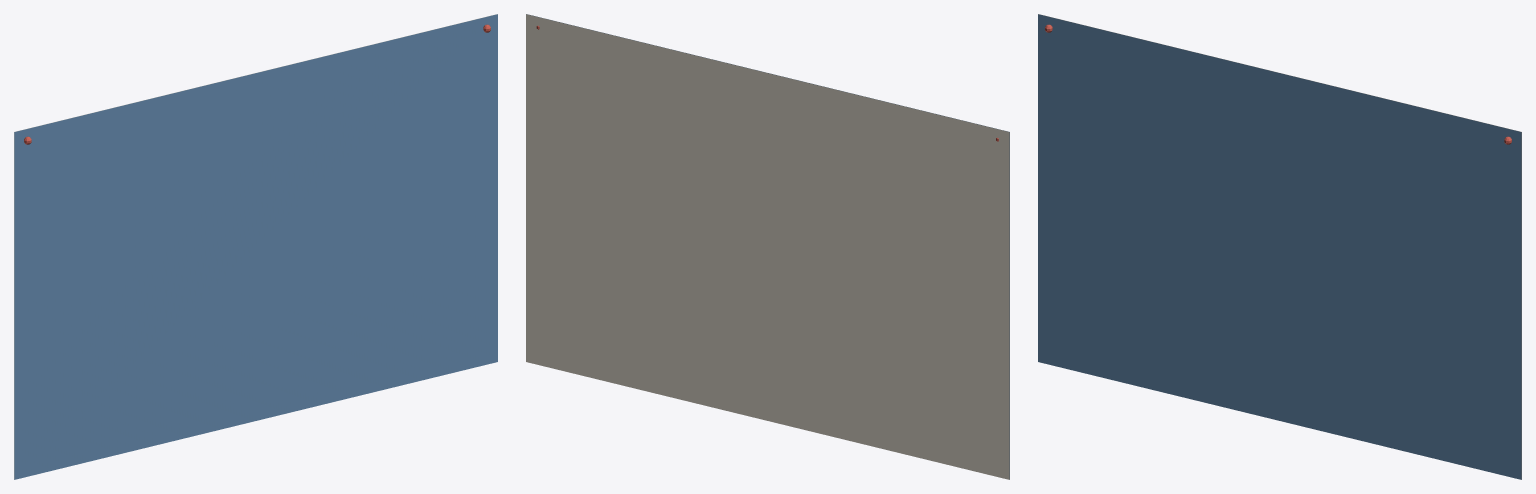
File: Garage_Card_Blueprint.glb
3 views of the same model, side by side, from view 1: azimuth 30°, elevation 25°; view 2: azimuth 150°, elevation 25°; view 3: azimuth 330°, elevation 25° (orthographic).
Visible parts, largest first — view 1: Garage_Card_Blueprint; view 2: Garage_Card_Blueprint; view 3: Garage_Card_Blueprint.
Part boxes in pixels (x1=…): Garage_Card_Blueprint: x1=14, y1=14, x2=497, y2=479; Garage_Card_Blueprint: x1=526, y1=14, x2=1009, y2=479; Garage_Card_Blueprint: x1=1038, y1=14, x2=1521, y2=479.
Bounding box in the file's own units: 1.2 × 0.825 × 0.0171.
